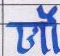ai_matra: (37, 5, 60, 23)
